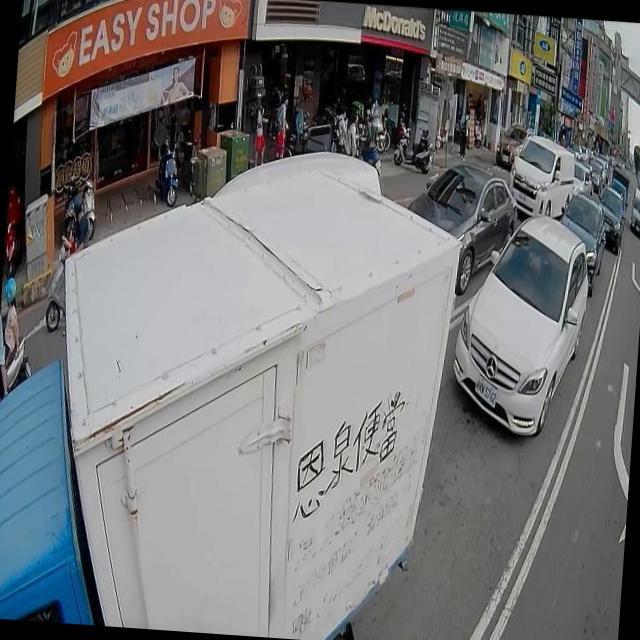person: (0, 272, 27, 398), (62, 190, 92, 253), (269, 94, 290, 160), (250, 92, 268, 166), (342, 111, 362, 158), (367, 94, 383, 150), (267, 84, 280, 140), (166, 104, 180, 154), (332, 112, 348, 154), (458, 110, 469, 158)
